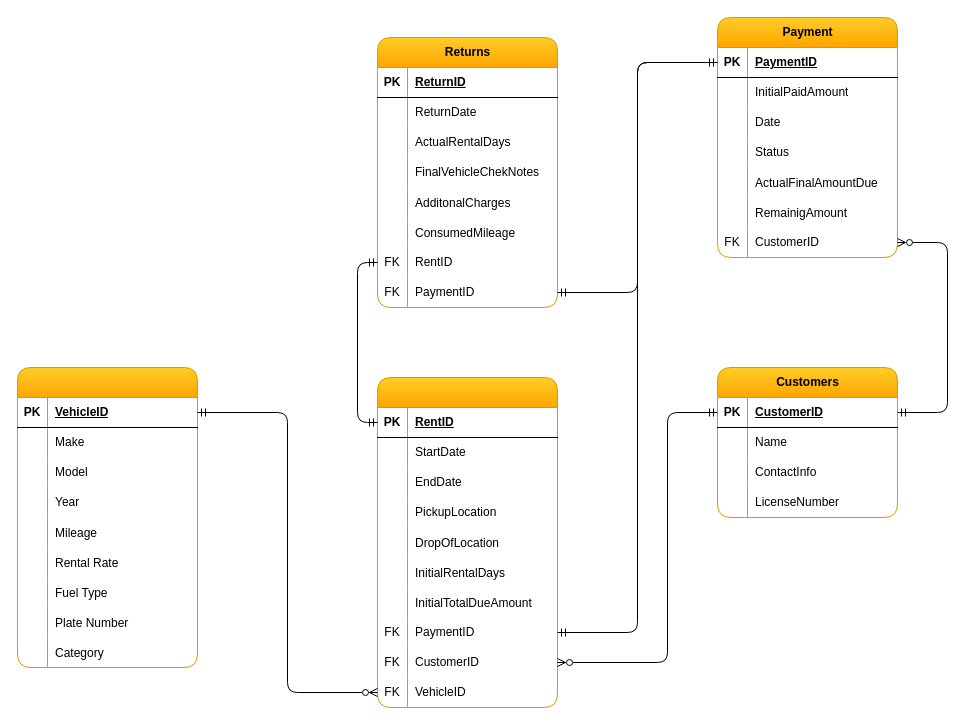
Some shapes in this 974 by 725 pixel diagram are drawn without their labels. Here are the shapes that lost their labels. From the top down, the box of each, then its label:
(16, 366, 198, 668): Vehicles
(376, 376, 558, 708): Reservations
